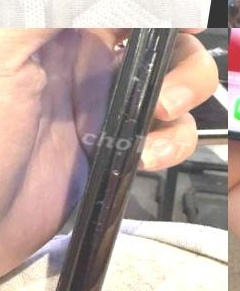scratch: (69, 169, 156, 271), (118, 28, 175, 149)
